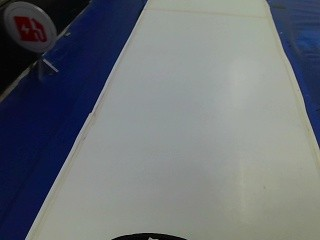battery: (1, 2, 58, 54)
